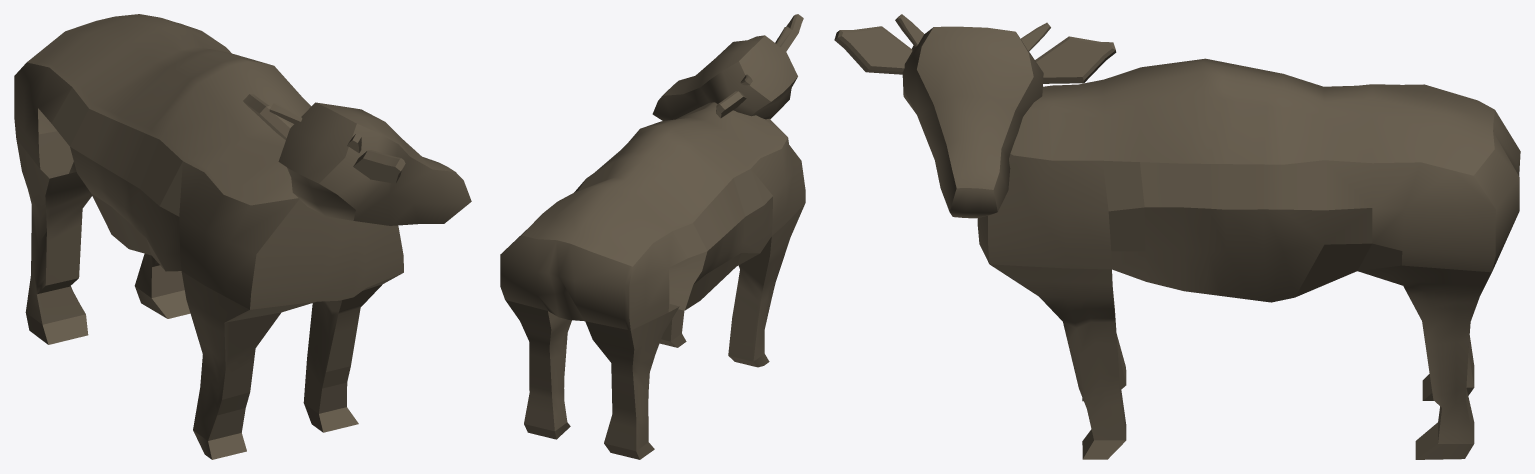
The model's file is cow2.fbx.
3 views of the same model, side by side, from view 1: azimuth 30°, elevation 25°; view 2: azimuth 150°, elevation 25°; view 3: azimuth 270°, elevation 25° (orthographic). The views are drawn at different scales.
Parts seen in each view (by area): view 1: pCube1, pCube2, pCube3, pCube4; view 2: pCube1, pCube2, pCube4, pCube3; view 3: pCube1, pCube2, pCube4, pCube3.
Part boxes in pixels (bbox=[...]): pCube1: bbox=[14, 14, 403, 459]; pCube2: bbox=[278, 102, 471, 225]; pCube3: bbox=[353, 150, 405, 183]; pCube4: bbox=[243, 94, 291, 139]; pCube1: bbox=[500, 102, 805, 459]; pCube2: bbox=[652, 35, 797, 120]; pCube4: bbox=[716, 91, 746, 118]; pCube3: bbox=[777, 14, 803, 51]; pCube1: bbox=[977, 58, 1520, 459]; pCube2: bbox=[902, 26, 1043, 218]; pCube4: bbox=[1035, 36, 1116, 83]; pCube3: bbox=[834, 26, 912, 74].
Size of the model in its own units: 0.986 by 1.55 by 2.4.
